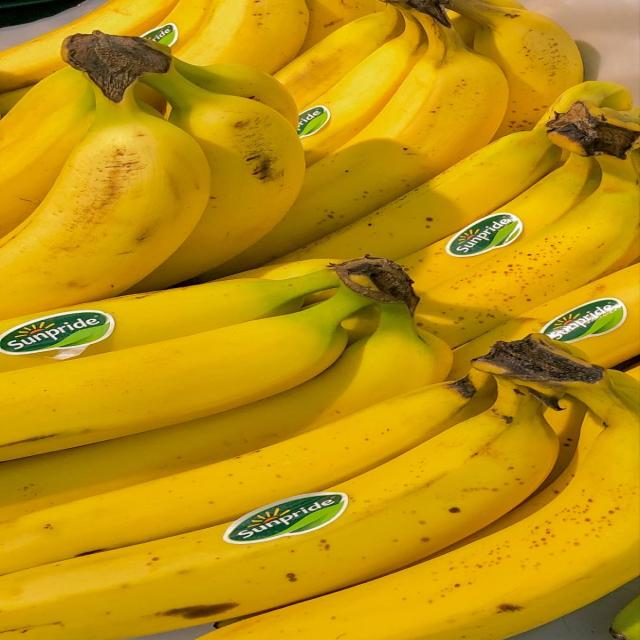unpeal banana: (0, 381, 557, 639), (212, 359, 639, 639), (0, 326, 493, 521), (220, 12, 507, 275), (0, 285, 372, 460), (278, 82, 632, 261), (0, 419, 405, 574), (0, 80, 210, 318), (417, 151, 639, 347), (130, 69, 304, 291), (0, 269, 338, 372), (400, 154, 601, 295), (439, 395, 605, 554), (451, 264, 639, 377), (299, 13, 426, 166), (446, 0, 583, 137), (0, 0, 176, 91), (0, 70, 94, 237), (275, 6, 403, 108), (177, 0, 308, 73), (174, 58, 298, 127), (0, 67, 87, 148), (0, 67, 86, 148), (131, 0, 215, 53), (300, 0, 384, 52), (610, 596, 639, 639), (448, 10, 478, 47)
